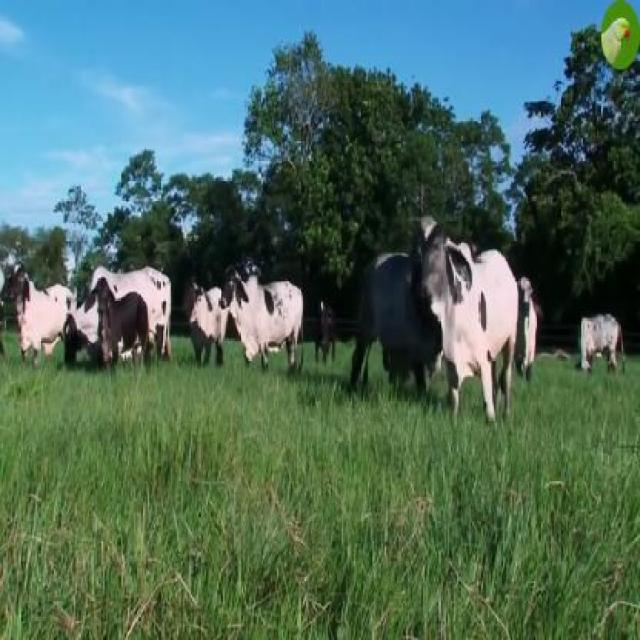Cow: (412, 212, 518, 422)
